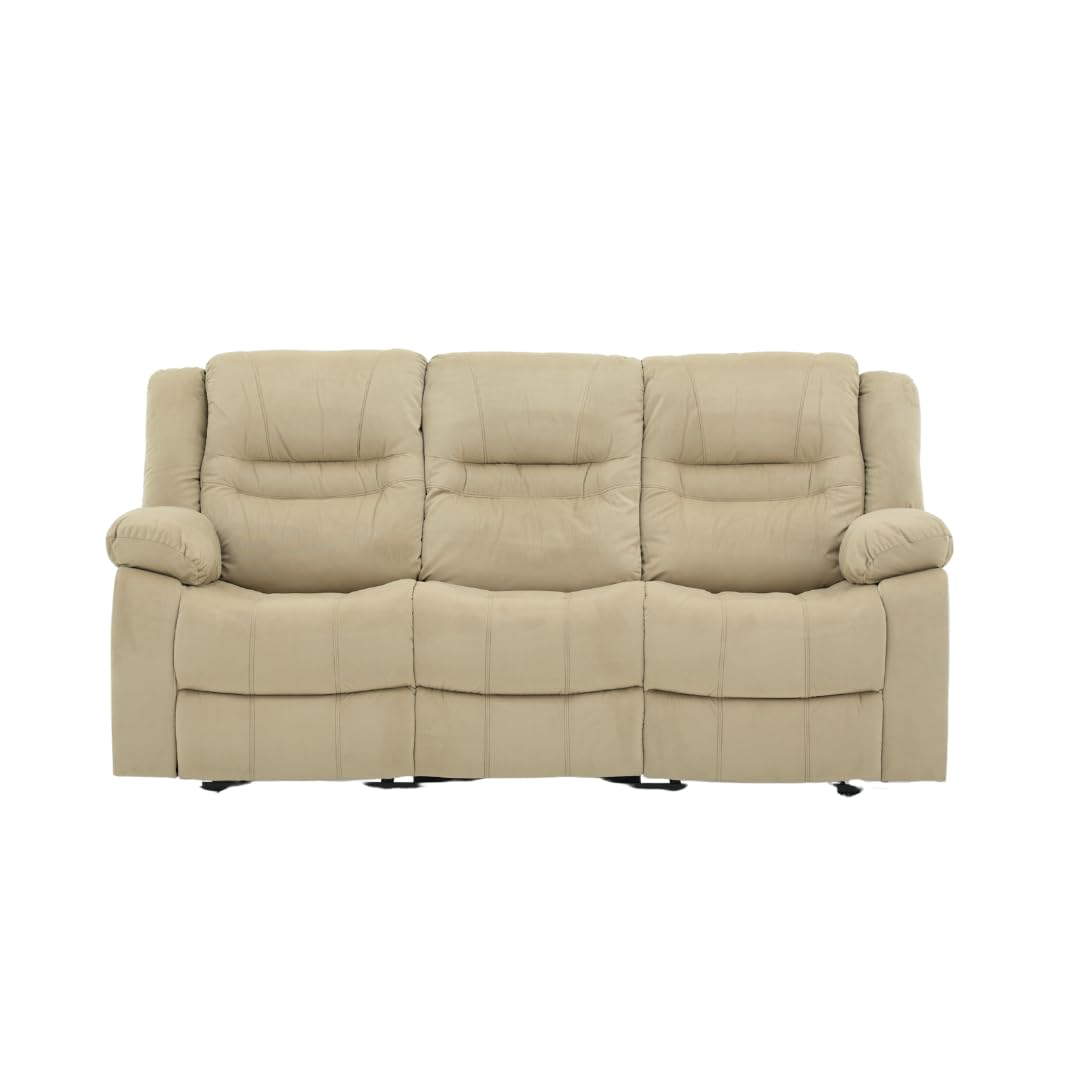3seatersofa: (107, 350, 952, 796)
backrest: (204, 351, 863, 590)
base: (177, 687, 880, 782)
leftarmrest: (839, 373, 951, 779)
leg: (363, 775, 478, 789), (603, 777, 686, 790), (202, 781, 249, 791), (834, 781, 859, 795)
rightarmrest: (107, 369, 220, 776)
seat: (174, 580, 894, 699)
